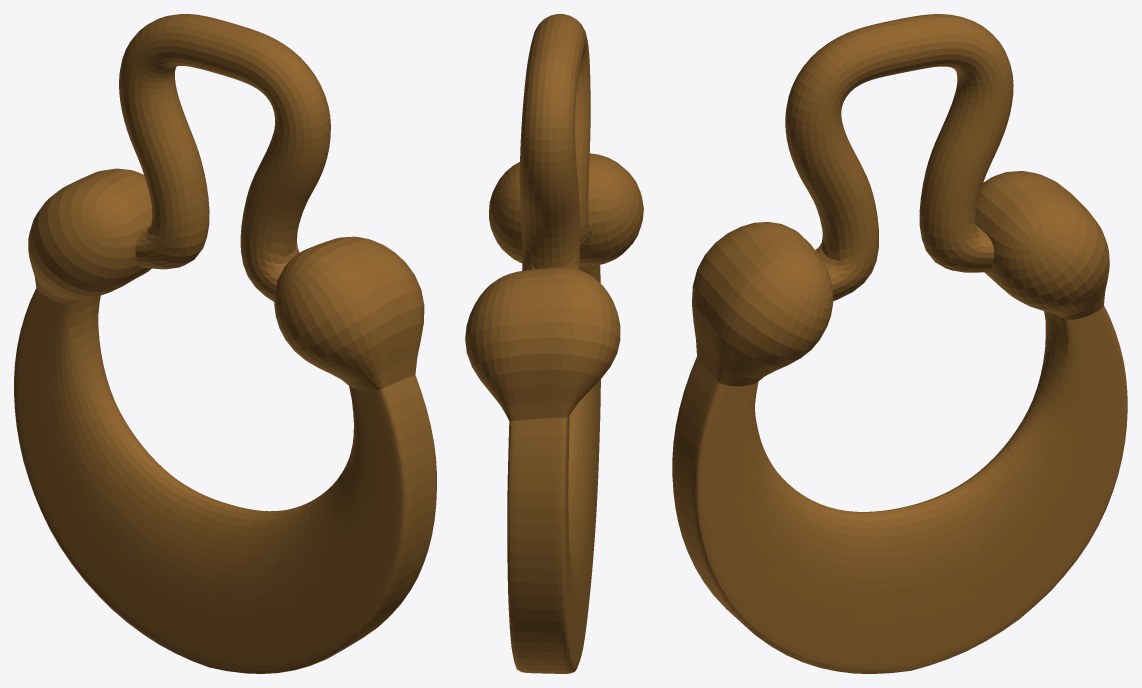
Rendered from COSSACK_EARRING_2#30.glb.
3 views of the same model, side by side, from view 1: azimuth 30°, elevation 25°; view 2: azimuth 150°, elevation 25°; view 3: azimuth 270°, elevation 25° (orthographic). The views are drawn at different scales.
Parts seen in each view (by area): view 1: PM3D_Cylinder3D1_5.004, PM3D_Cylinder3D1_5.005; view 2: PM3D_Cylinder3D1_5.004, PM3D_Cylinder3D1_5.005; view 3: PM3D_Cylinder3D1_5.004, PM3D_Cylinder3D1_5.005.
Boxes of the visible parts, left/top/right/bottom form: PM3D_Cylinder3D1_5.004: left=14, top=168, right=436, bottom=673; PM3D_Cylinder3D1_5.005: left=119, top=14, right=330, bottom=301; PM3D_Cylinder3D1_5.004: left=465, top=153, right=643, bottom=673; PM3D_Cylinder3D1_5.005: left=519, top=14, right=592, bottom=270; PM3D_Cylinder3D1_5.004: left=672, top=171, right=1127, bottom=673; PM3D_Cylinder3D1_5.005: left=785, top=14, right=1013, bottom=300.
Bounding box in the file's own units: 0.16 × 0.3913 × 0.2529.
